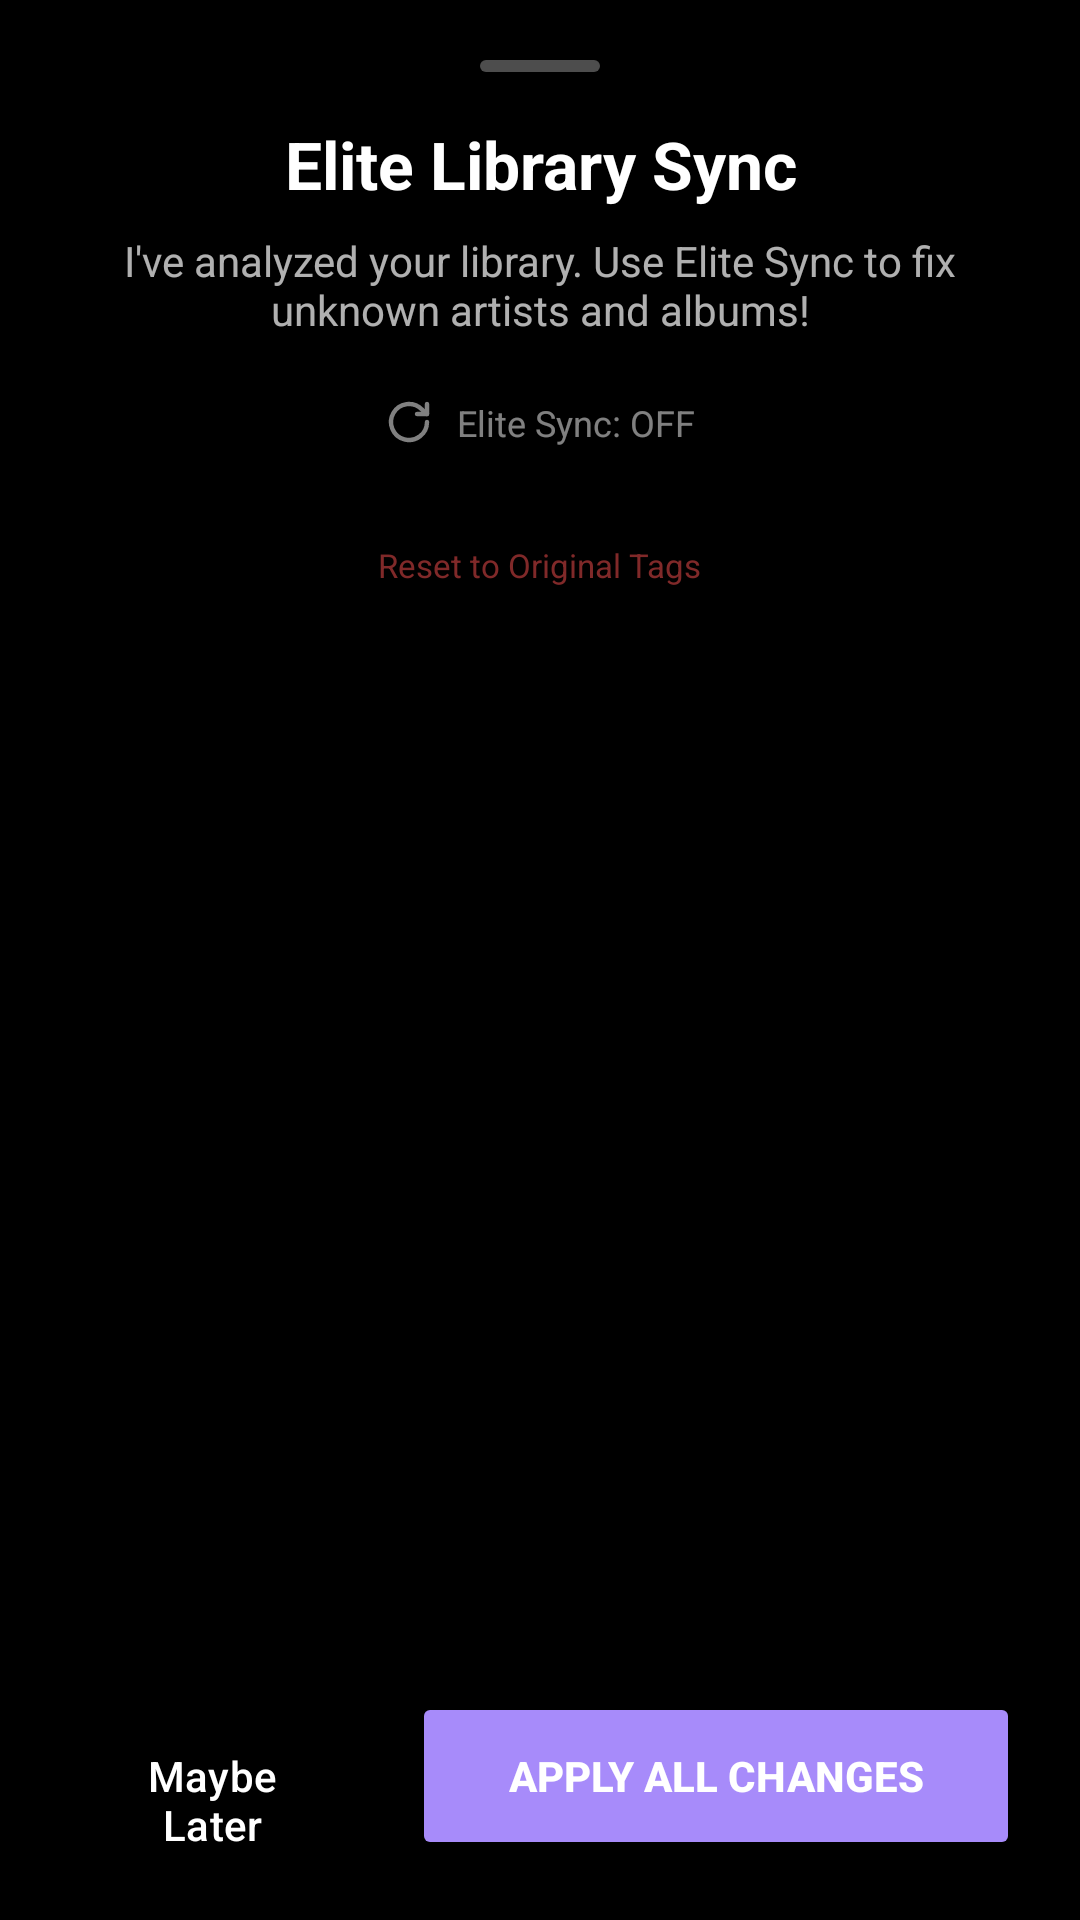

Icon click points for this 1080 × 1920 phone screenshot, format [x,y]:
refresh: [409,422]
